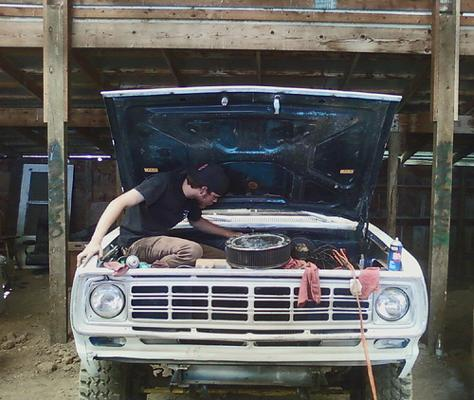person: (75, 157, 250, 269)
